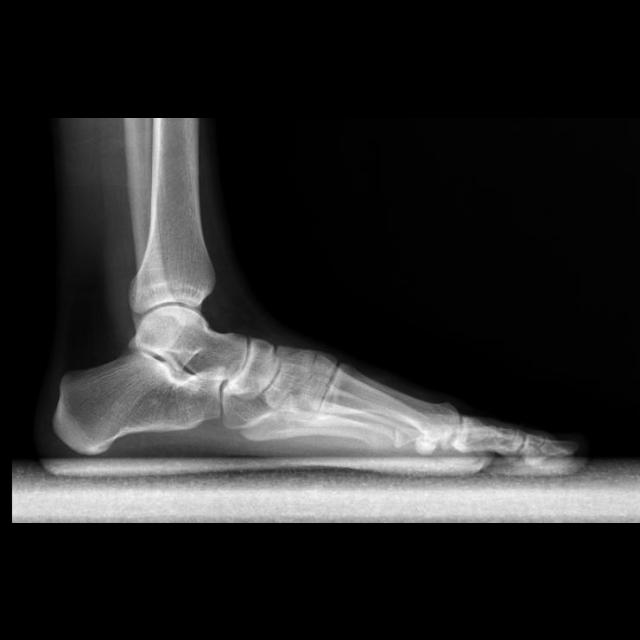a: (52, 345, 225, 454)
b: (227, 339, 279, 400)
c: (315, 362, 458, 440)
